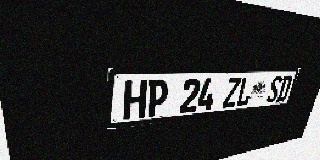2: (179, 78, 201, 113)
4: (196, 78, 218, 111)
D: (276, 76, 293, 102)
H: (123, 80, 148, 120)
L: (235, 77, 255, 107)
P: (145, 79, 169, 117)
S: (266, 76, 283, 103)
Z: (222, 77, 242, 108)
